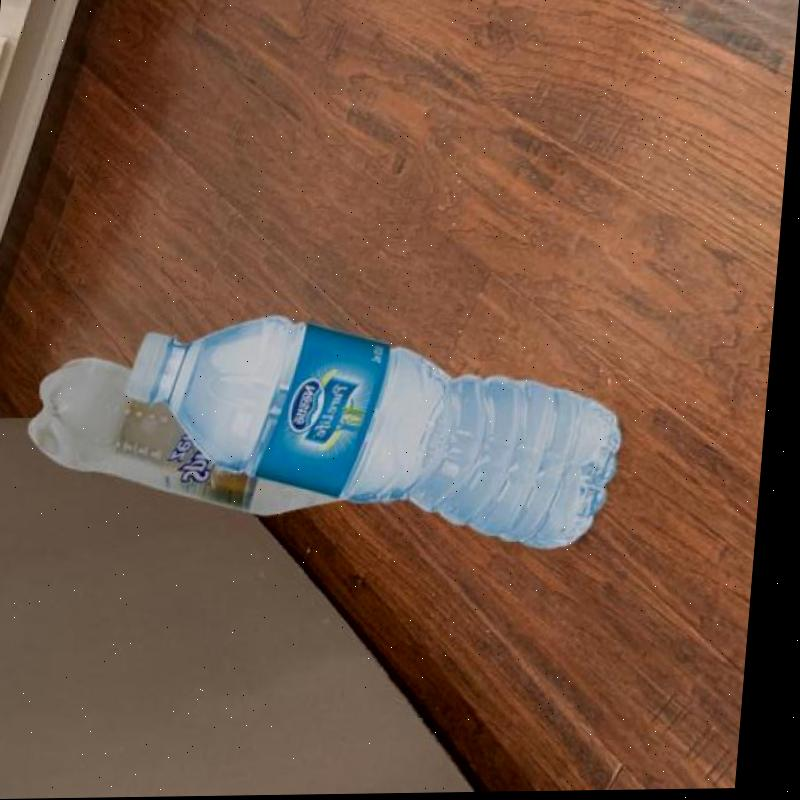botella: (121, 308, 638, 559), (29, 351, 376, 524)
